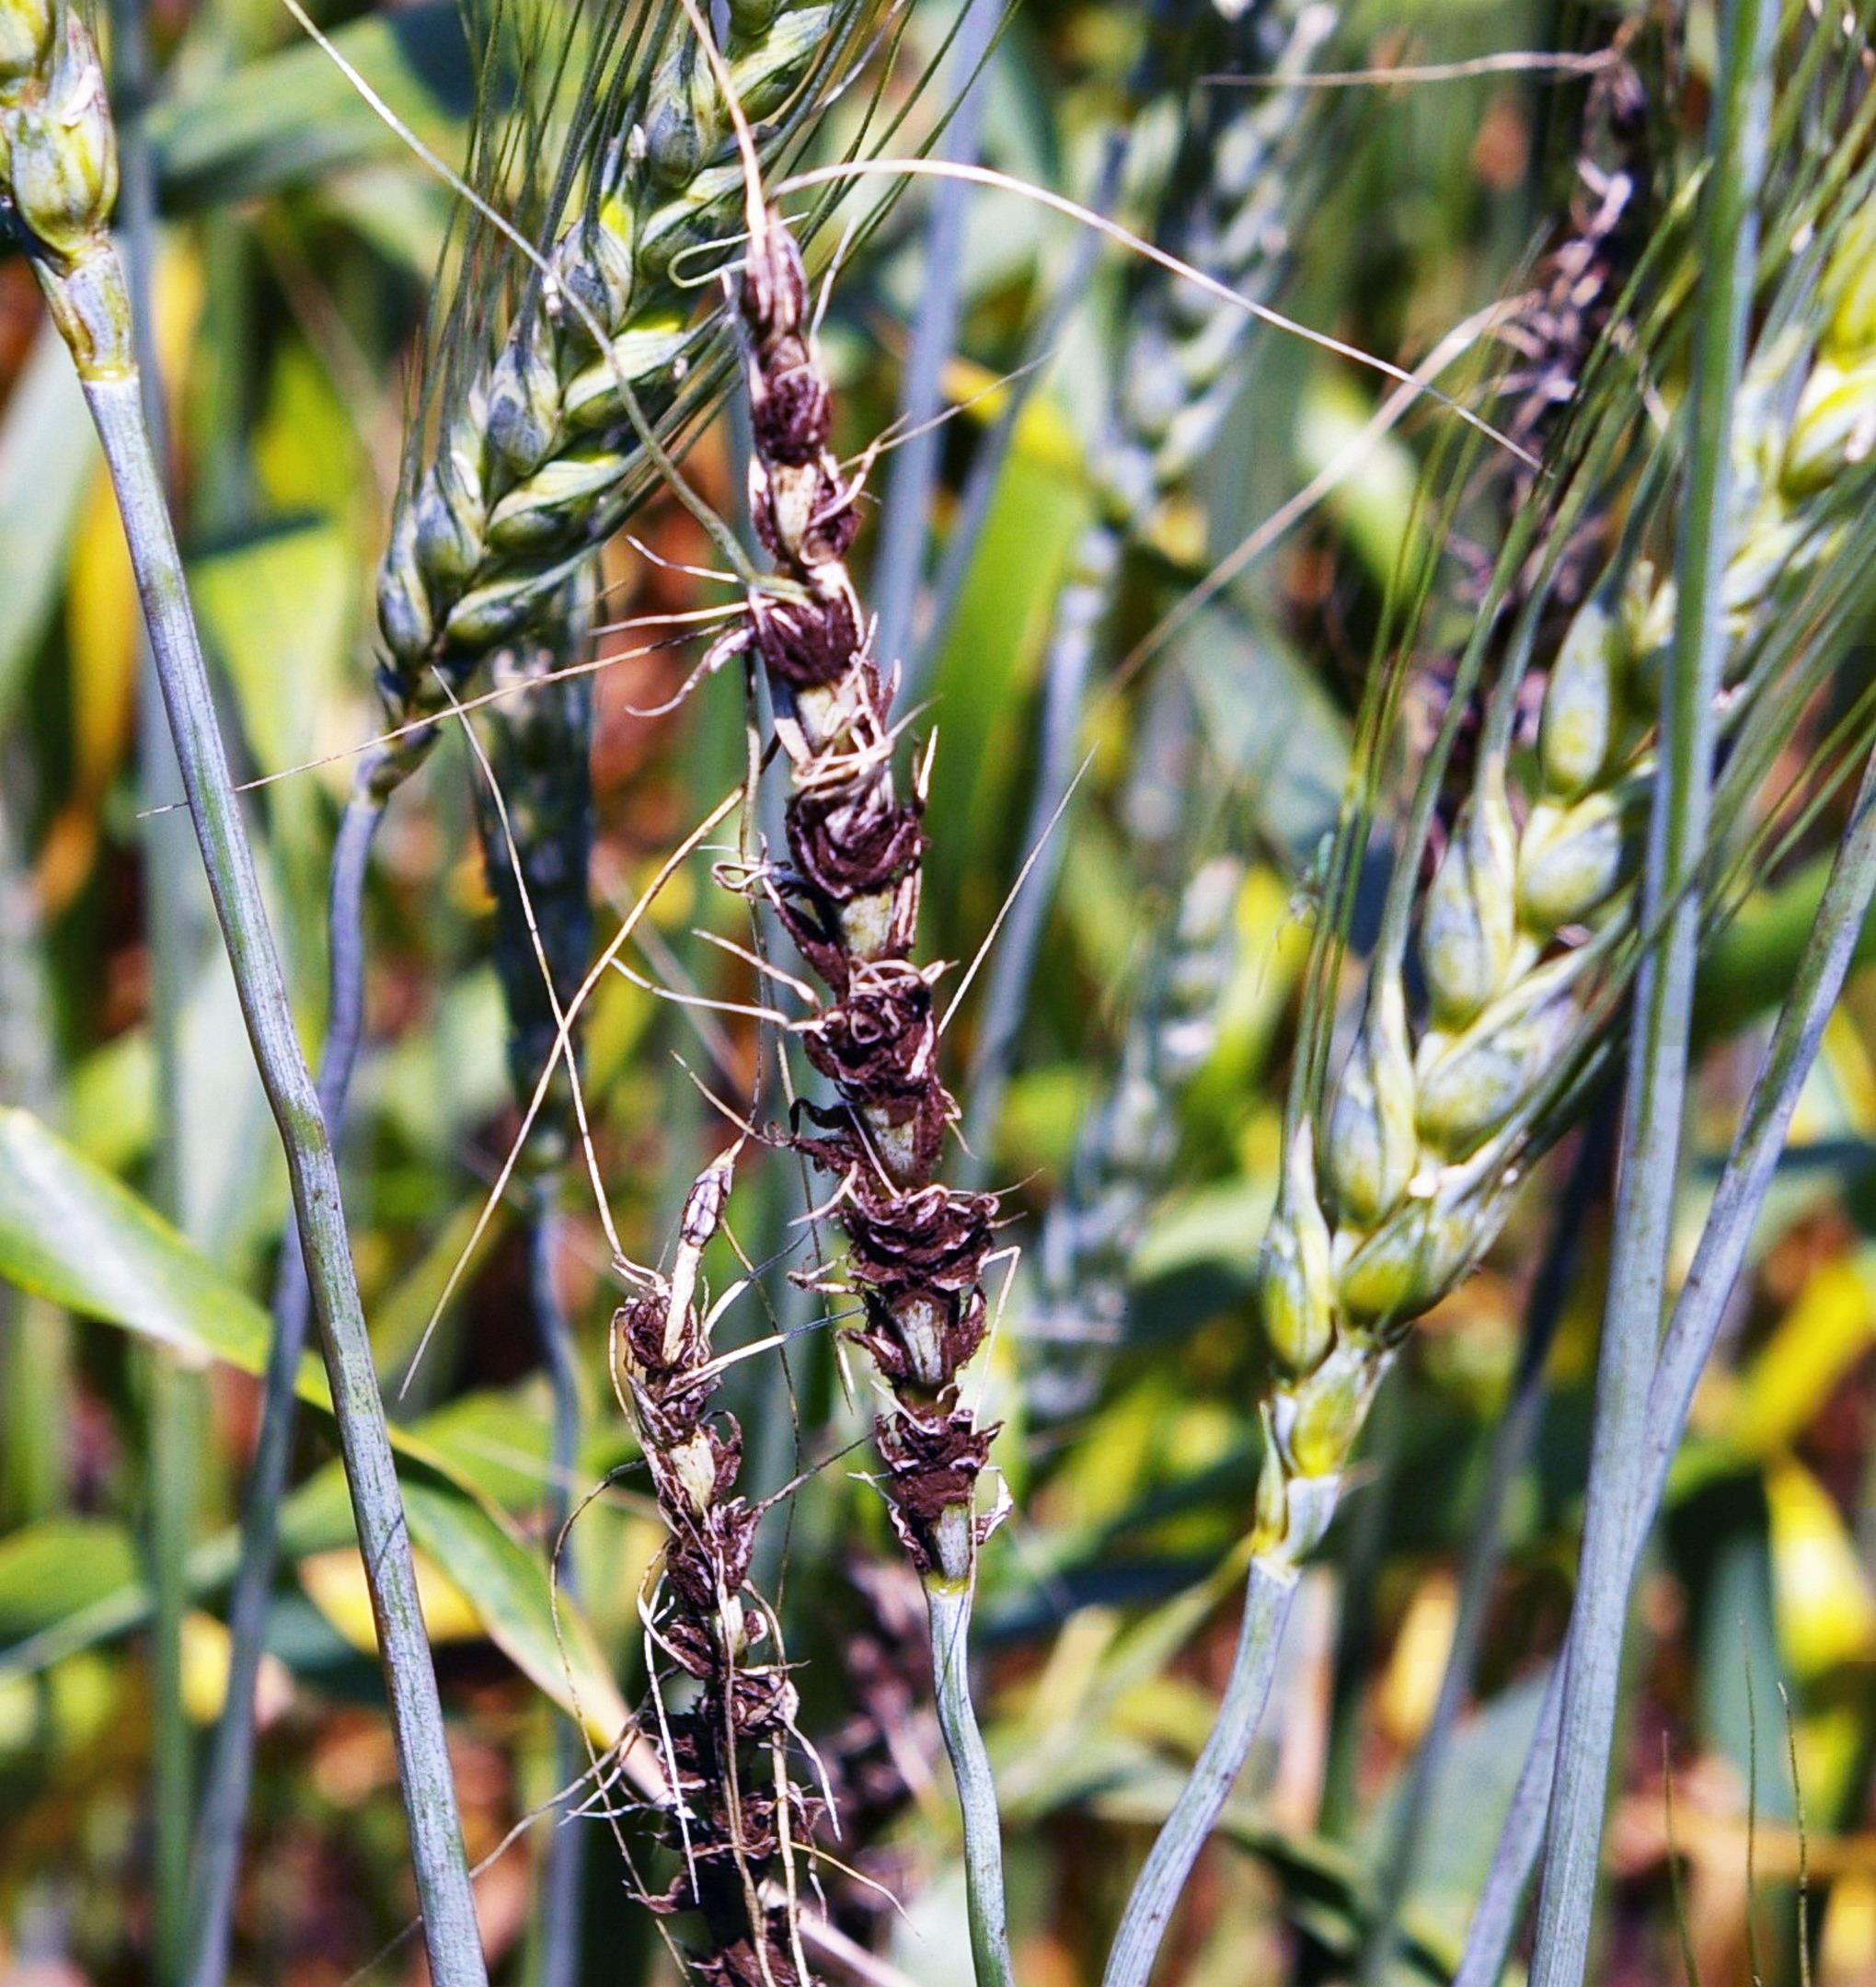Wheat Loose Smut: (705, 252, 1077, 1463)
